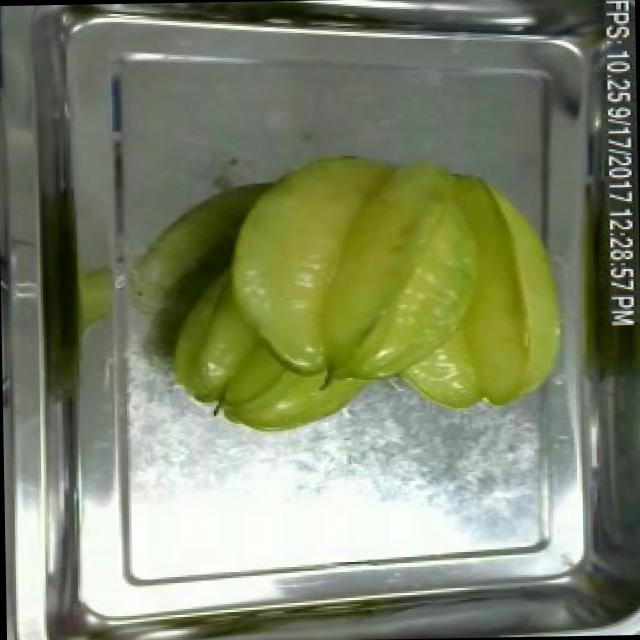fruit: (205, 140, 572, 418)
